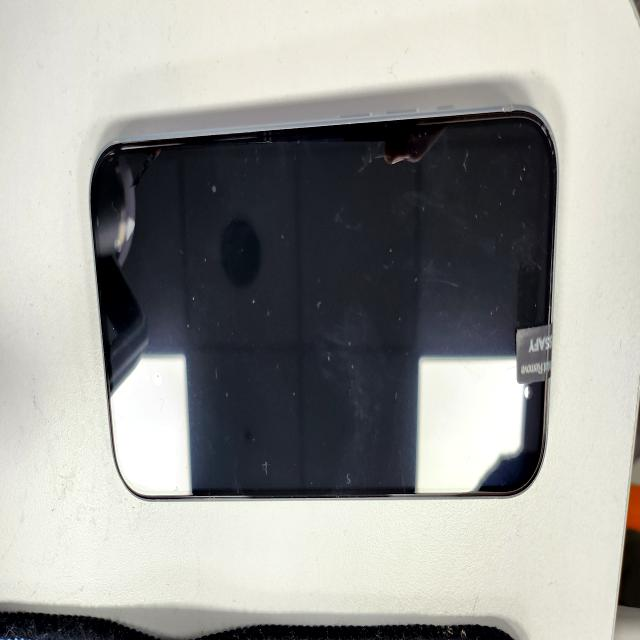phone: (90, 110, 561, 508)
sticker: (515, 323, 553, 385)
